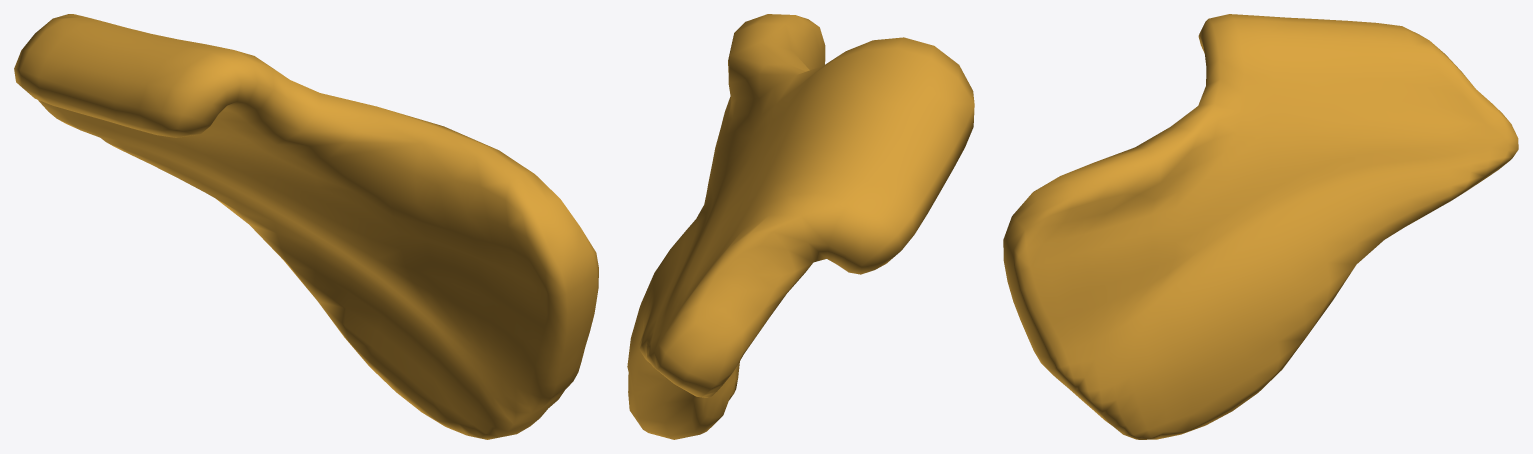
3 renders of one model, left to right at view 1: azimuth 30°, elevation 25°; view 2: azimuth 150°, elevation 25°; view 3: azimuth 270°, elevation 25°, orthographic. The views are drawn at different scales.
Visible parts, largest first — view 1: 左侧腮腺; view 2: 左侧腮腺; view 3: 左侧腮腺.
Boxes of the visible parts, x1,y1,x2,y2 form: 左侧腮腺: (14,14,598,439); 左侧腮腺: (627,14,974,439); 左侧腮腺: (1003,14,1518,439).
Size of the model in its own units: 0.0462 by 0.0487 by 0.0702.
